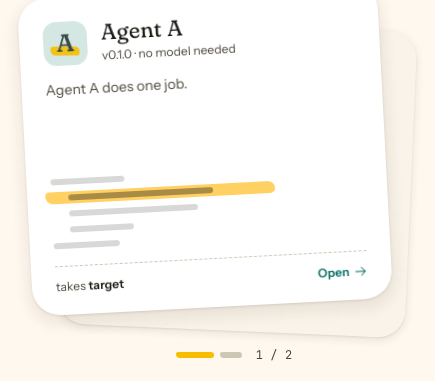
AgentDeck › brings another agent to the front from the pager
This screenshot has width=435, height=381.
Click the button named "Show Agent B".
click(231, 355)  # box [220,352,242,358]
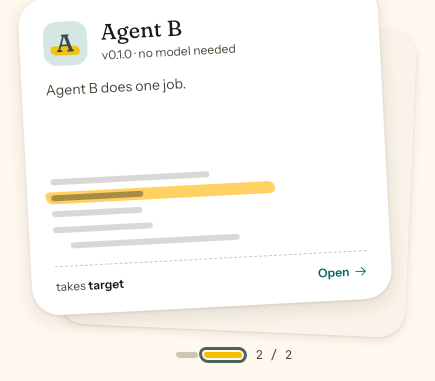
Now the text "2 / 2" is shown, box [256,345,292,365]
